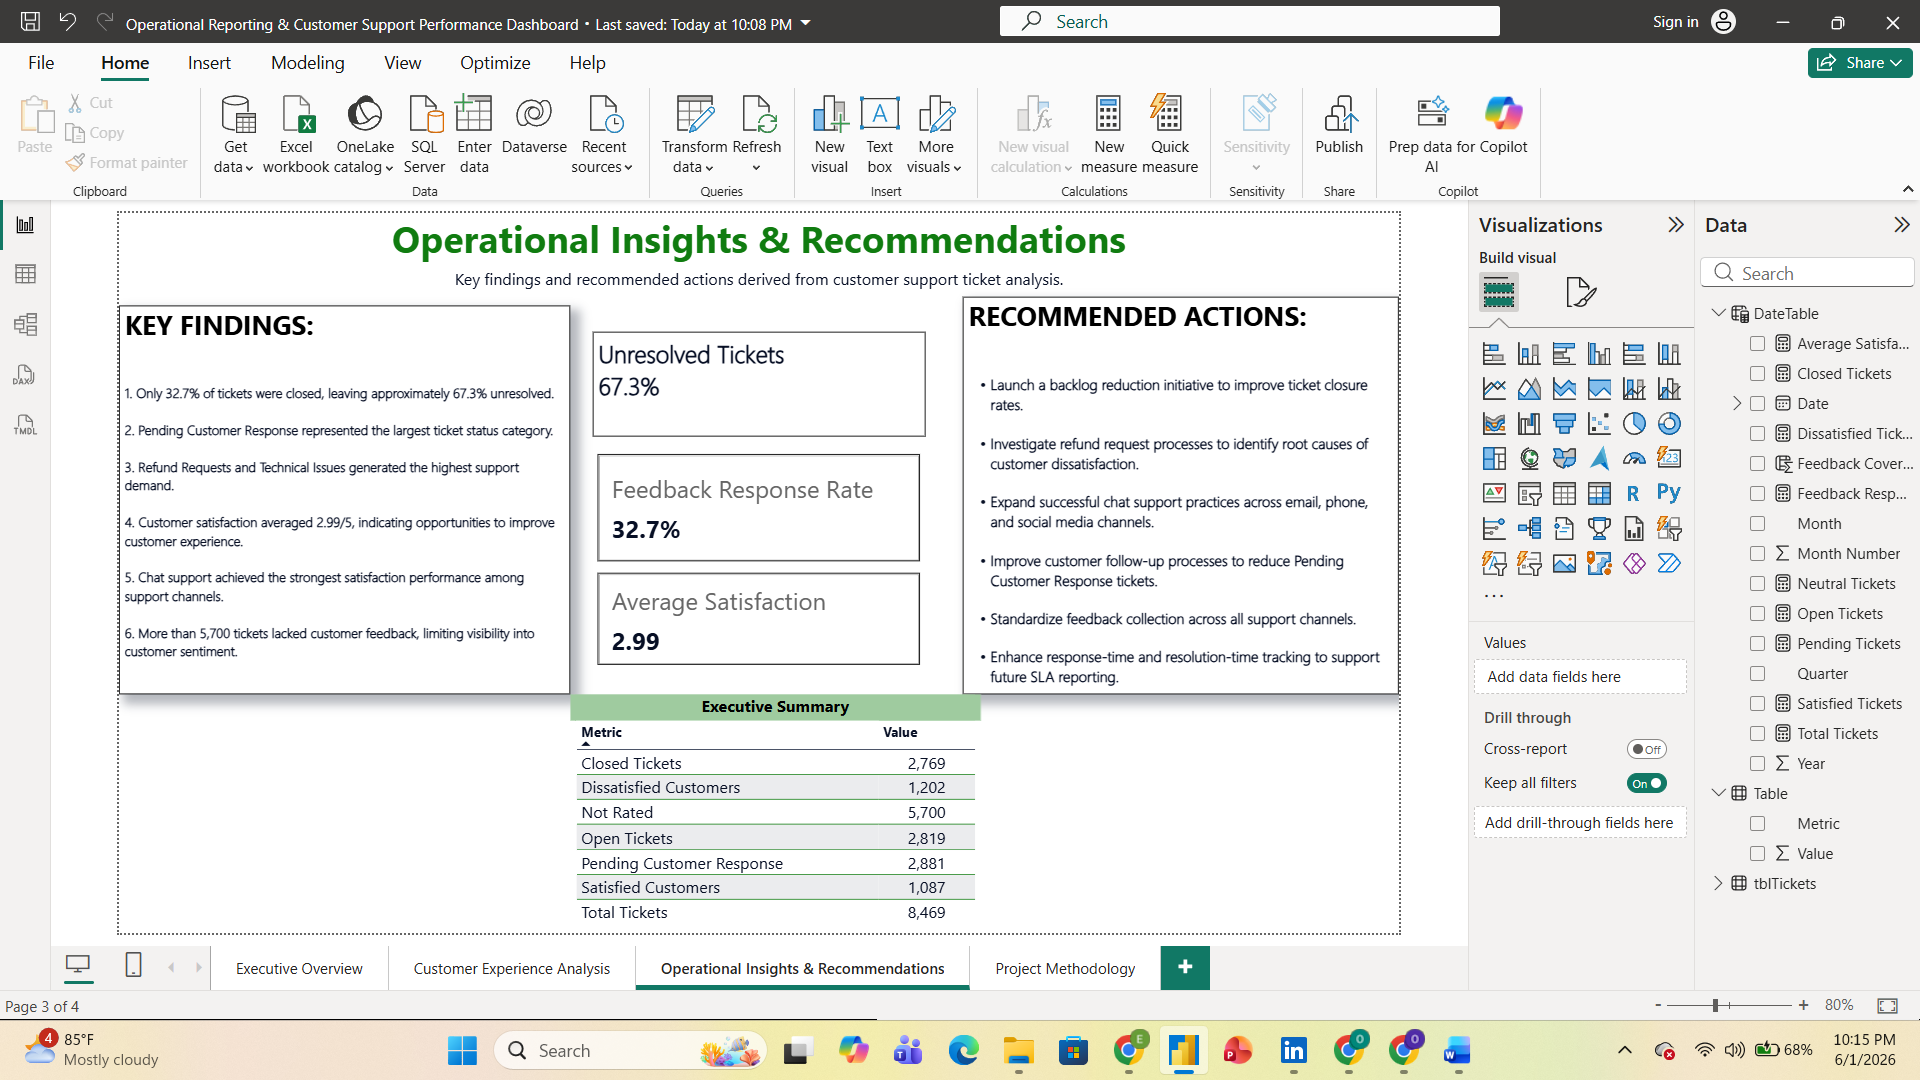

The page's visual inventory and layout, read from the dashboard file:
{"tool":"powerbi","page":{"name":"Operational Insights & Recommendations","canvas":[1280,720],"ordinal":2},"visuals":[{"type":"textbox","title":"Operational Insights & Recommendations","box":[151.2,0,977.5,83.8],"z":0},{"type":"textbox","title":"KEY FINDINGS:","box":[0,92.5,451.2,388.8],"z":1000},{"type":"textbox","title":"RECOMMENDED ACTIONS:","box":[843.8,83.8,436.2,397.5],"z":2000},{"type":"cardVisual","title":"Customer Feedback Coverage","fields":{"Data":["DateTable.Customer Feedback Coverage"]},"box":[473.8,236.2,332.5,117.5],"z":3000},{"type":"cardVisual","fields":{"Data":["DateTable.Average Satisfaction"]},"box":[473.8,355,332.5,102.5],"z":4000},{"type":"textbox","box":[473.8,118.8,332.5,105],"z":5000},{"type":"tableEx","title":"Executive Summary","fields":{"Values":["Table.Metric","Table.Value"]},"box":[451.2,481.2,410,238.8],"z":6000}]}

Visuals, with their boxes on the page's 1280x720 design canvas (x1, y1, x2, y2). These are canvas units, not pixel positions in the 1920x1080 screenshot, which may show the page scaled, cropped or inside an application window:
"Operational Insights & Recommendations" textbox: select_region(151, 0, 1129, 84)
"KEY FINDINGS:" textbox: select_region(0, 92, 451, 481)
"RECOMMENDED ACTIONS:" textbox: select_region(844, 84, 1280, 481)
"Customer Feedback Coverage" cardVisual: select_region(474, 236, 806, 354)
cardVisual - DateTable.Average Satisfaction: select_region(474, 355, 806, 458)
textbox: select_region(474, 119, 806, 224)
"Executive Summary" tableEx: select_region(451, 481, 861, 720)
